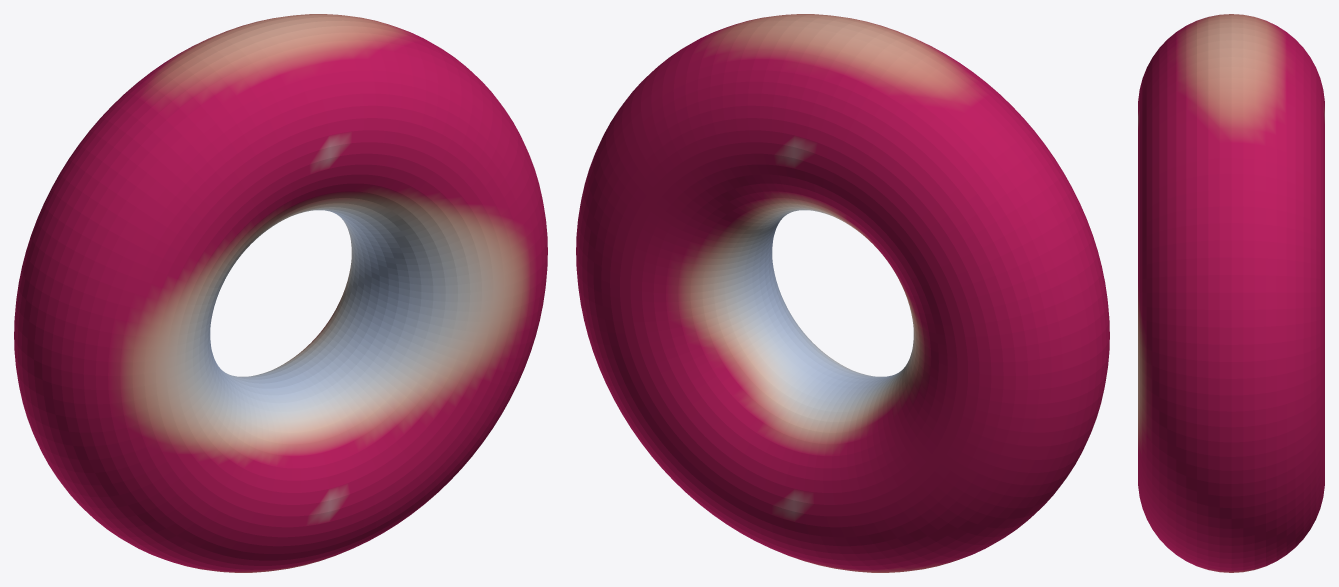
3 views of the same model, side by side, from view 1: azimuth 30°, elevation 25°; view 2: azimuth 150°, elevation 25°; view 3: azimuth 270°, elevation 25° (orthographic). The views are drawn at different scales.
Parts seen in each view (by area): view 1: world; view 2: world; view 3: world.
Boxes of the visible parts, bbox=[...] form: world: bbox=[14, 14, 547, 572]; world: bbox=[576, 14, 1109, 572]; world: bbox=[1138, 14, 1324, 572].
Bounding box in the file's own units: 29.07 × 29.07 × 9.71.
